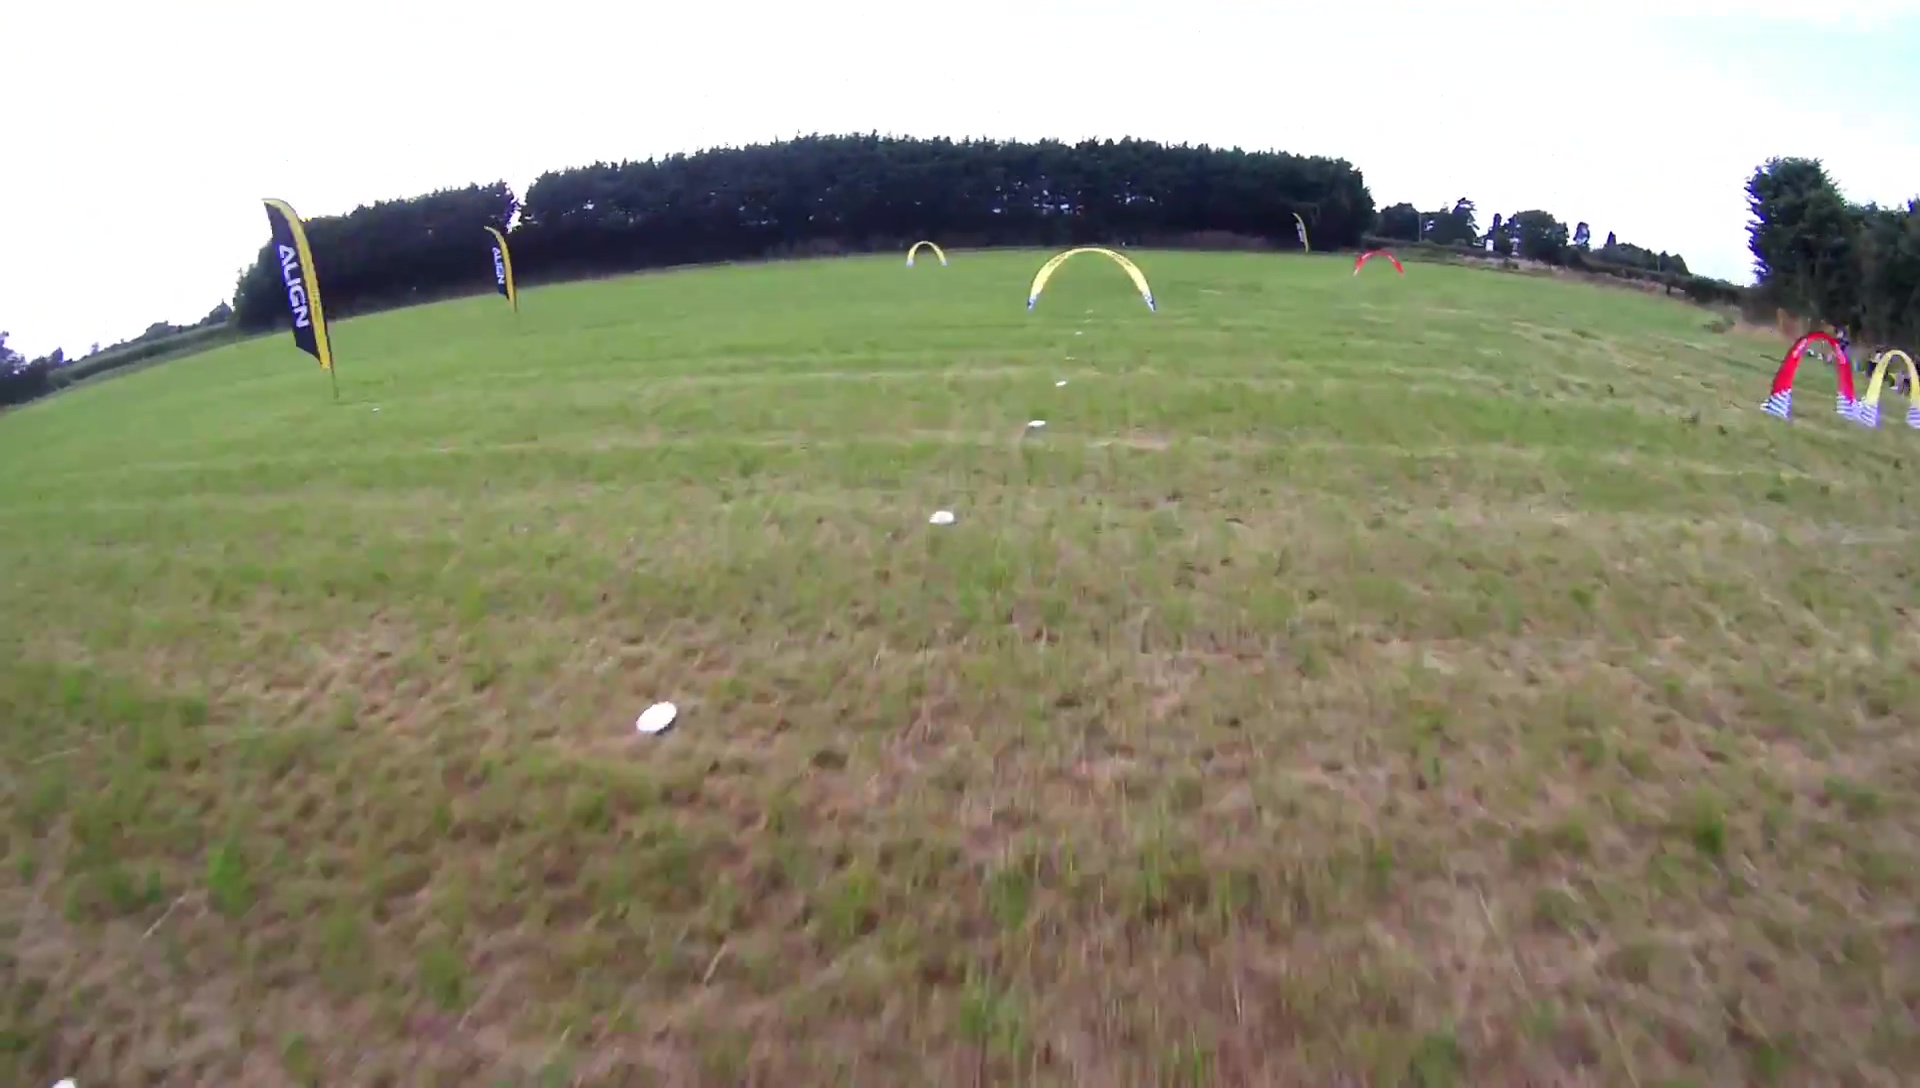gate: (1756, 331, 1858, 419), (1025, 245, 1158, 311), (1858, 347, 1920, 427), (1350, 247, 1406, 280), (905, 237, 949, 269)
